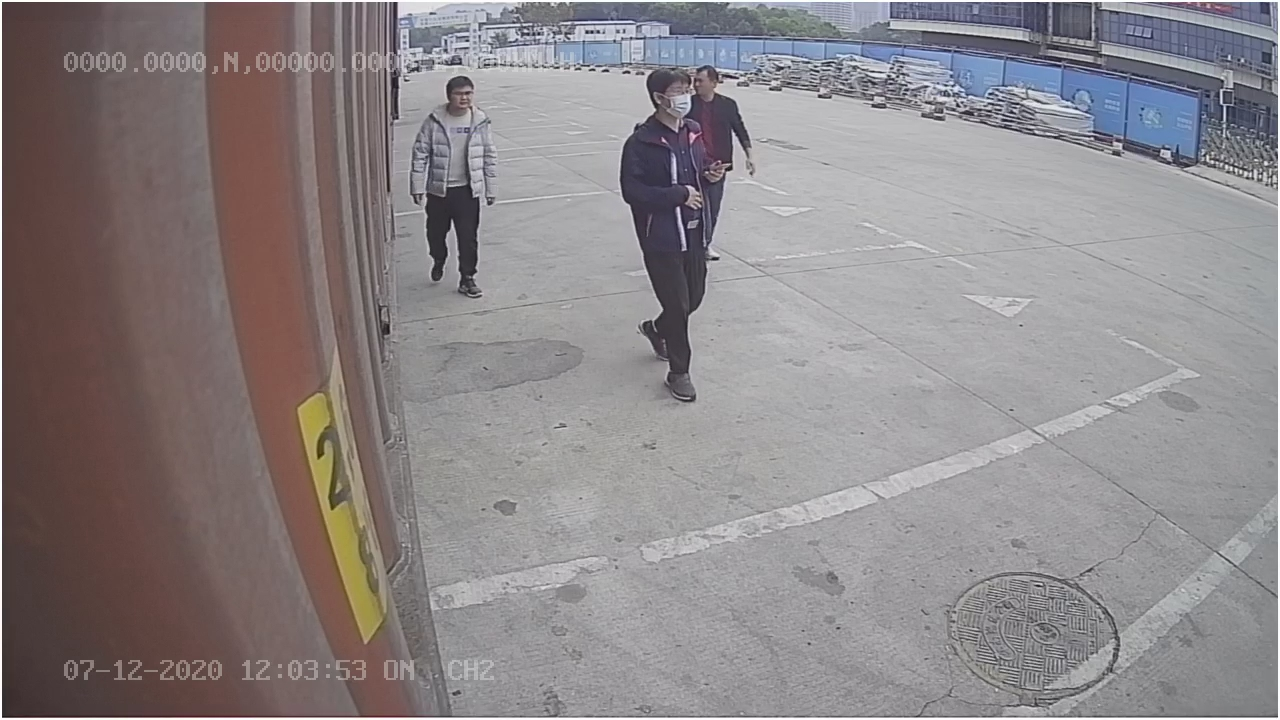person: (408, 74, 499, 299)
